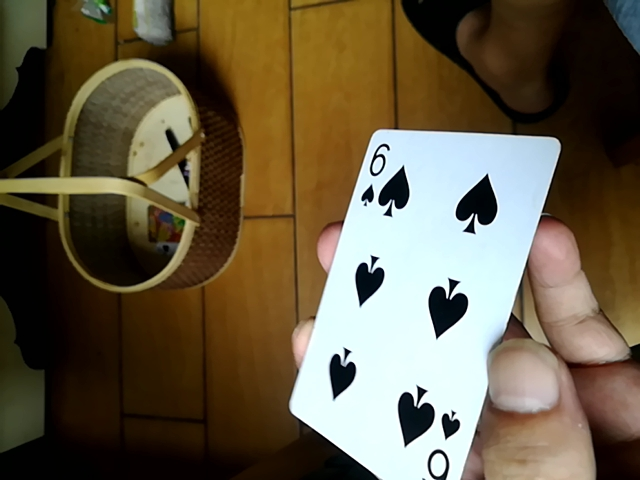ht 6: (290, 129, 548, 480)
